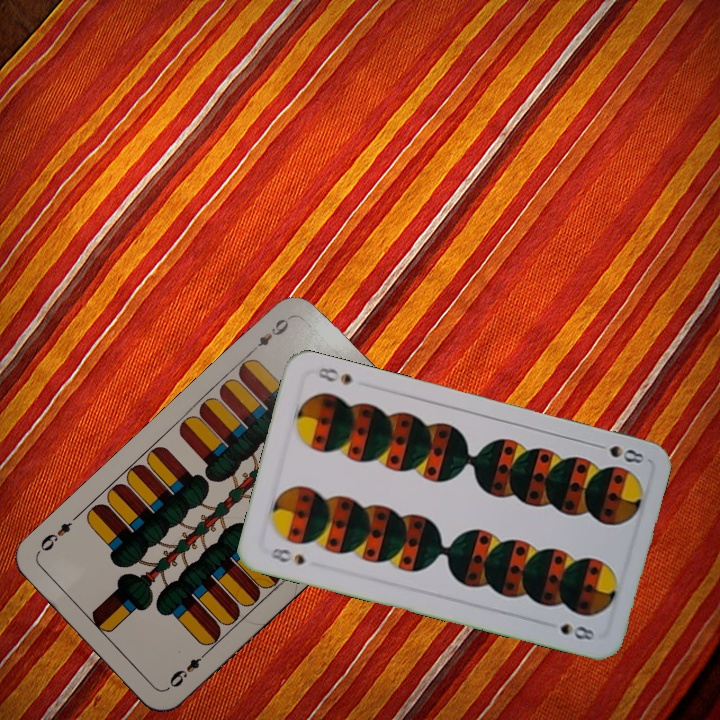E9: (163, 647, 211, 692), (246, 313, 295, 356)
S8: (266, 543, 308, 568), (605, 441, 647, 466)
